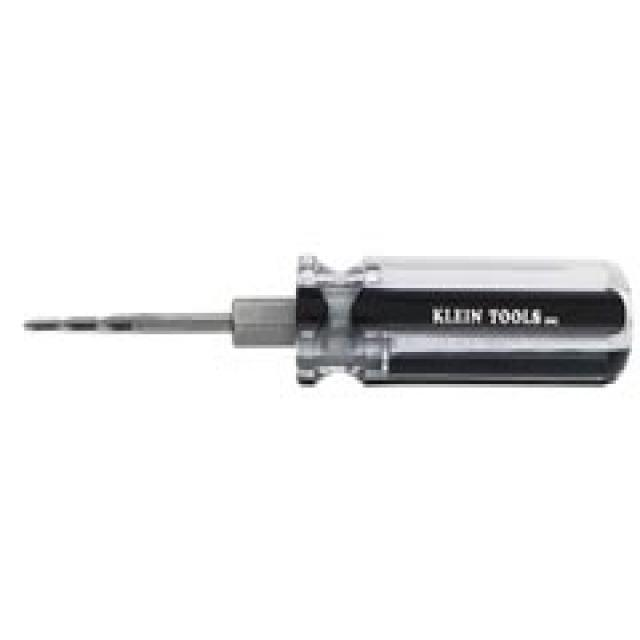screwdriver: (22, 246, 640, 424)
